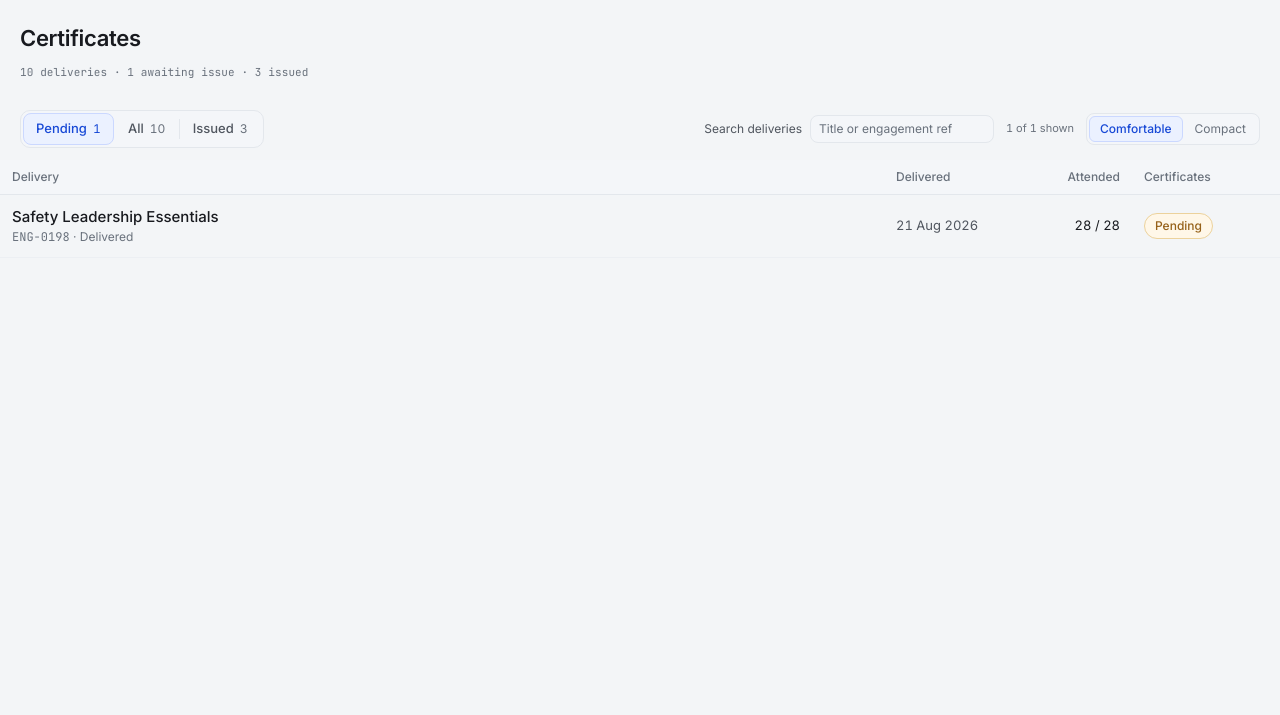
Test: the certificate register › says so when a delivery has no participants at all
Click the tab "All 10" at point(147, 128), box [115,112,179,144]
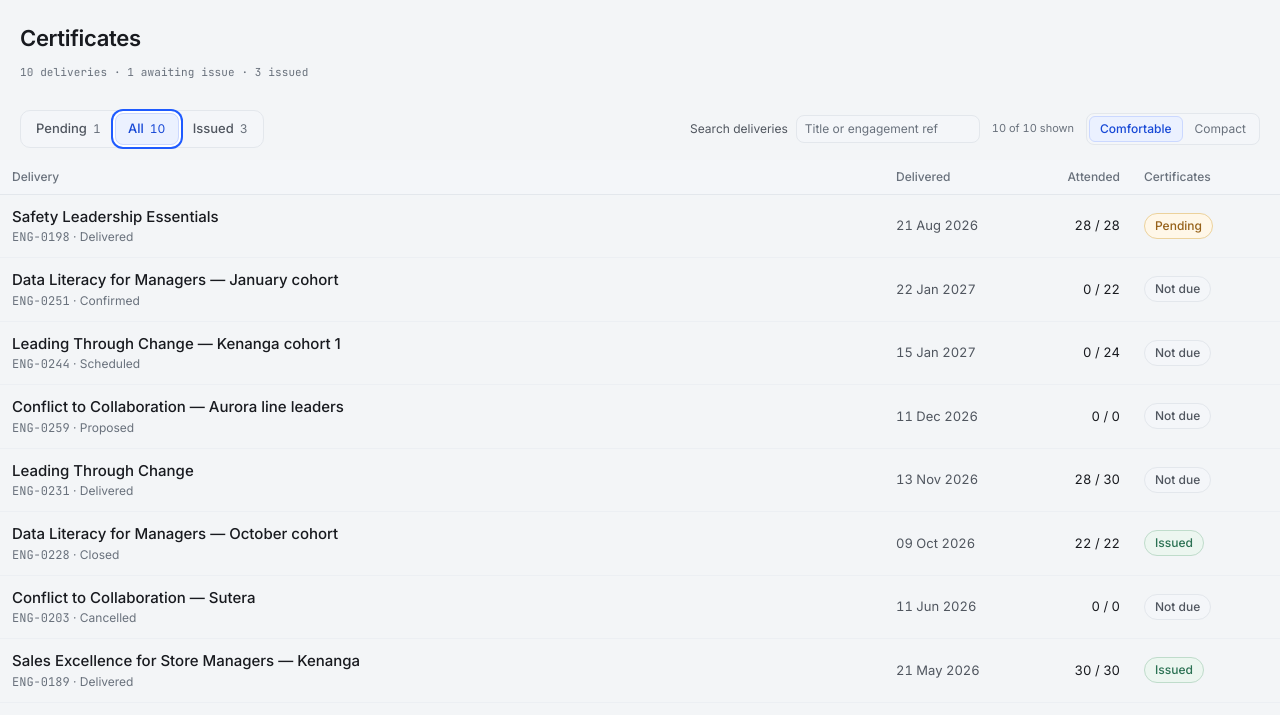
Click the text "Conflict to Collaboration — Sutera" at point(640, 607), box [0,575,1279,638]
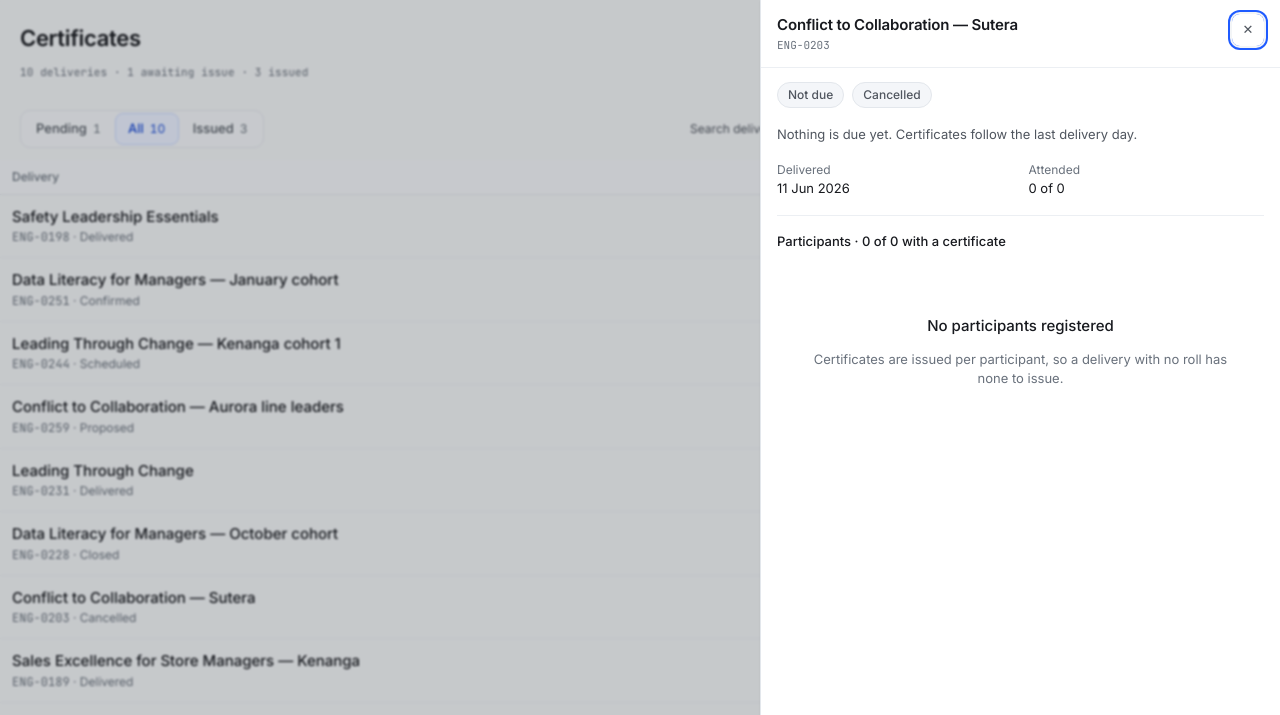
Expected: the text "No participants registered" is shown, [927,315,1114,338]
